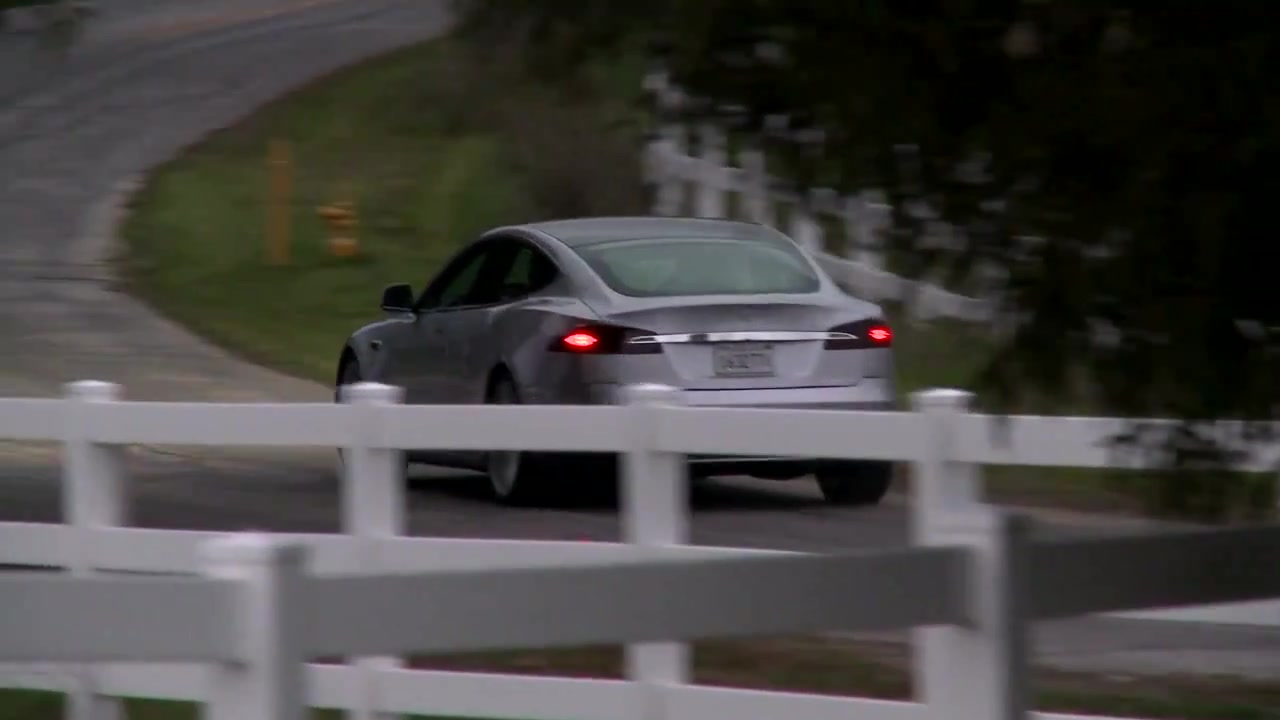car: (332, 215, 903, 510)
